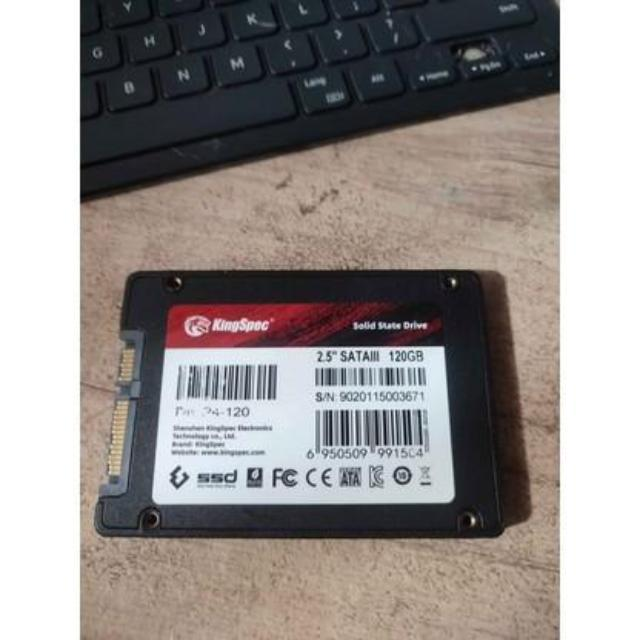DISK: (96, 262, 507, 536)
